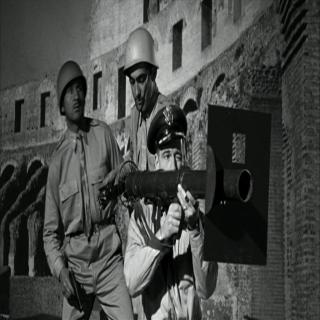gun: (59, 264, 90, 314)
